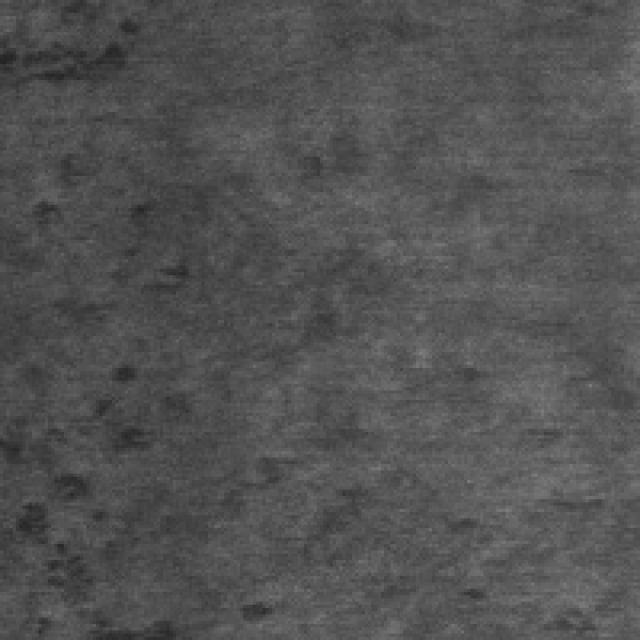rolled-in_scale: (0, 182, 182, 636), (0, 0, 150, 99)
